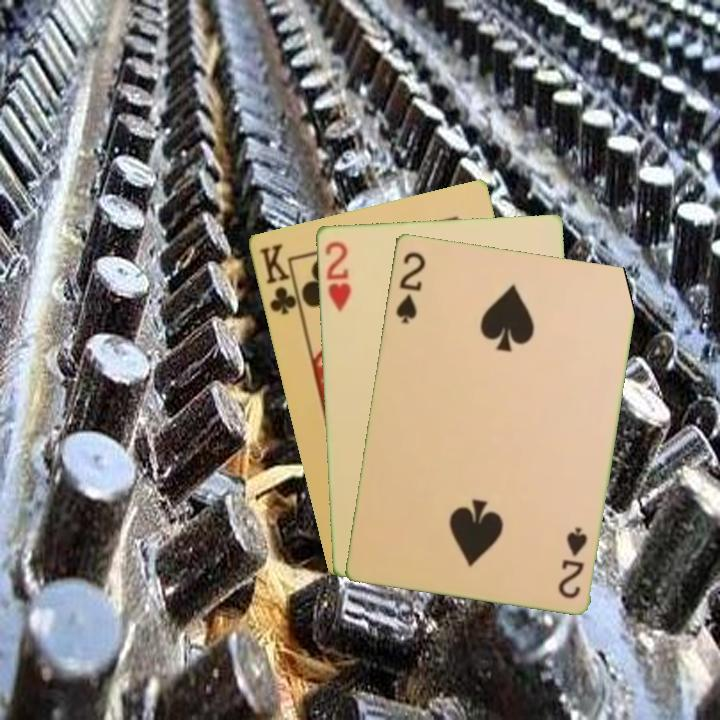2h: (321, 237, 354, 314)
2s: (392, 248, 428, 326), (554, 523, 590, 601)
Kc: (255, 239, 303, 319)
